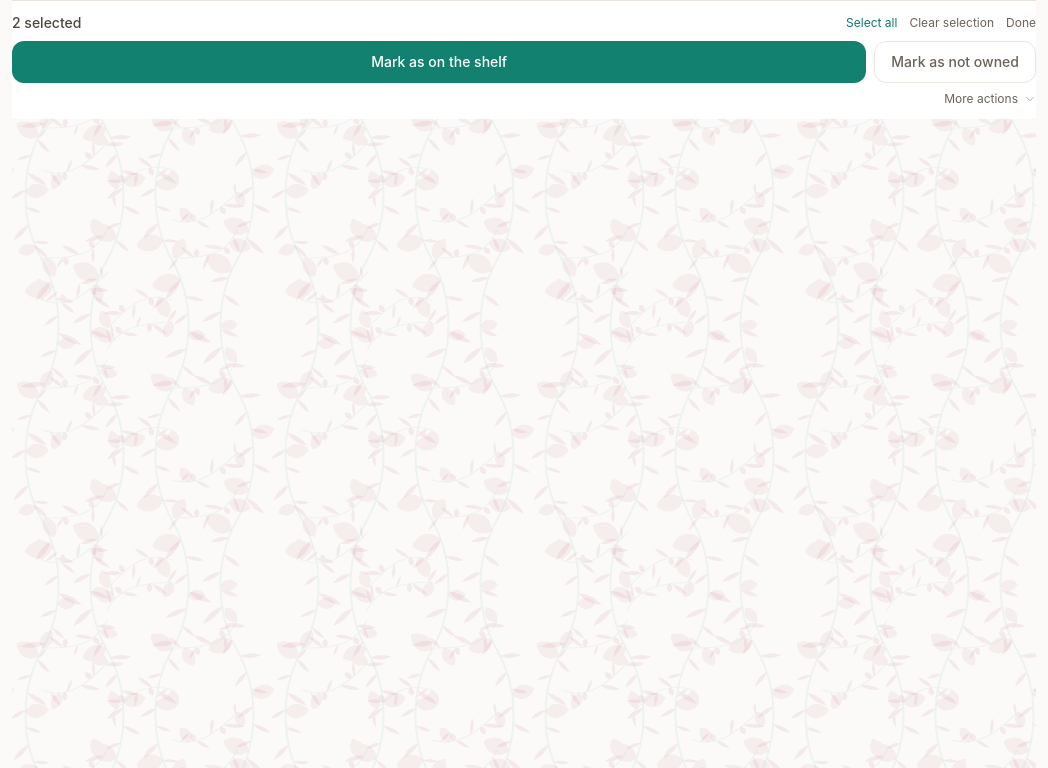
it: SelectionBar extra actions › reveals them on request
The width and height of the screenshot is (1048, 768).
Click the button "More actions": (990, 99) [944,91,1036,107]
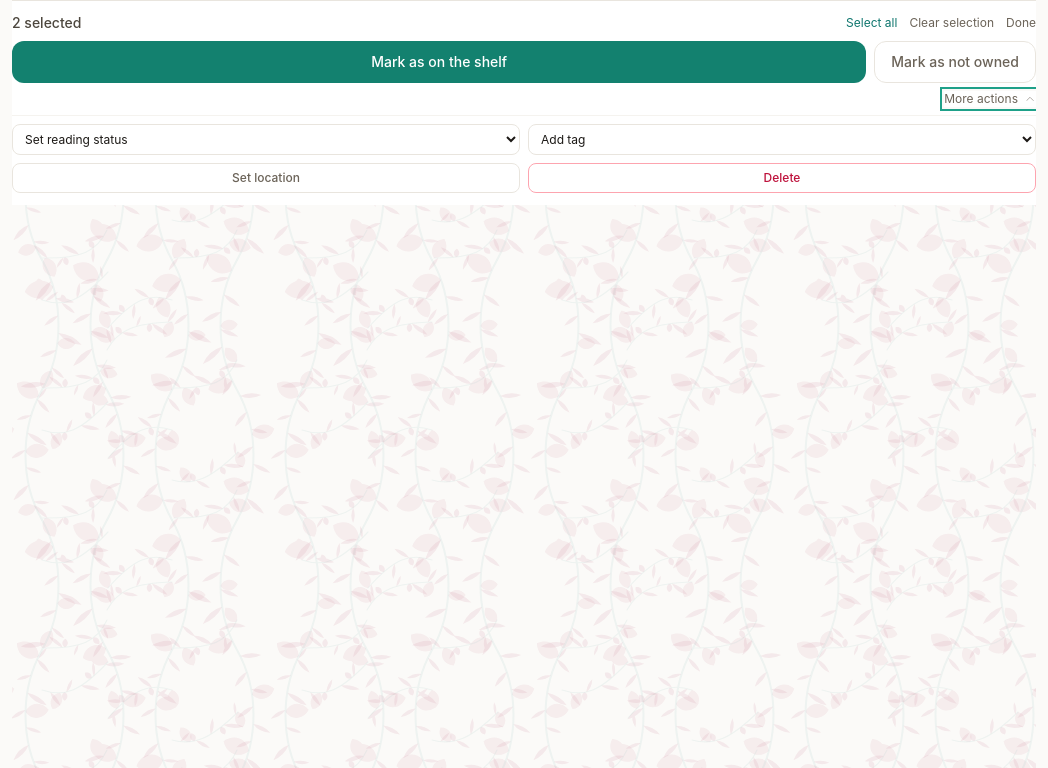
Expected: the button "Delete" is shown, [528,163,1036,193]
